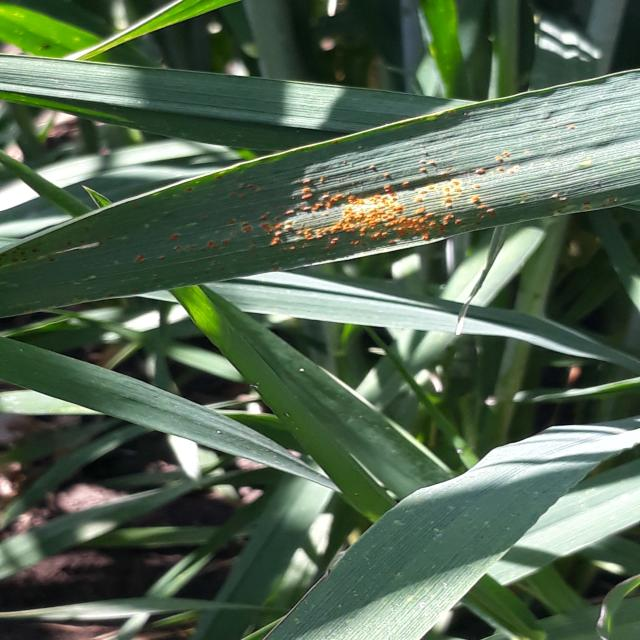orang_rust: (0, 91, 640, 328)
